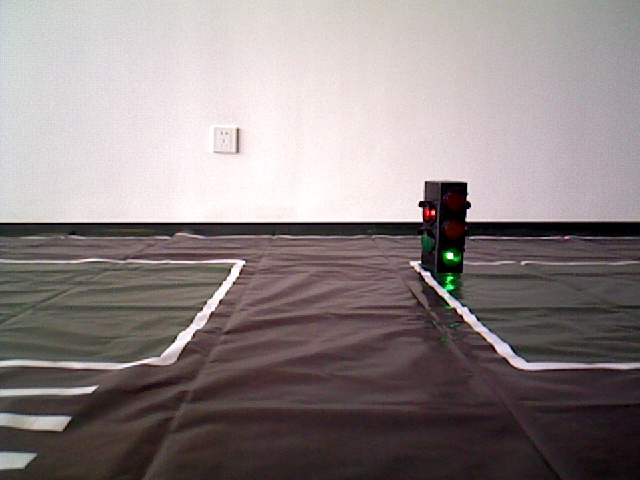green: (423, 183, 463, 267)
